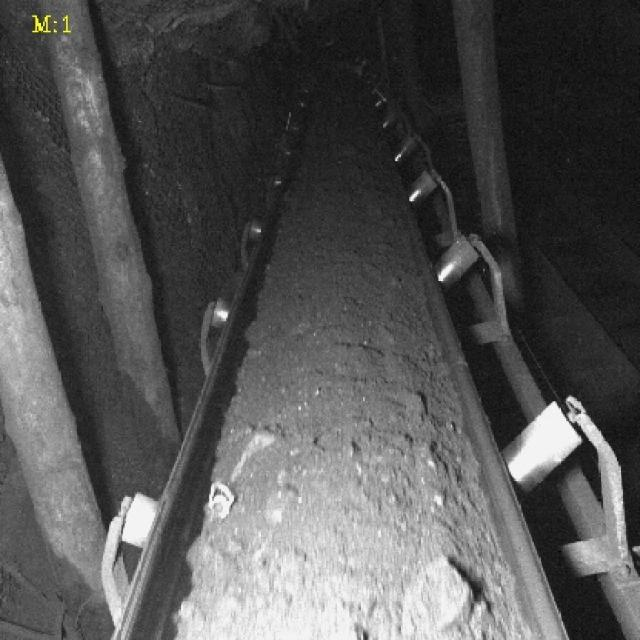Other_garbage: (206, 484, 234, 518)
large_sized_coal: (398, 554, 491, 640)
